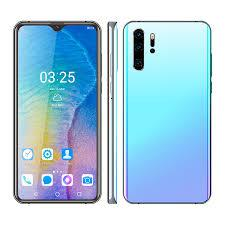Smartphone: (12, 18, 101, 208), (125, 20, 212, 208), (105, 17, 117, 204)
